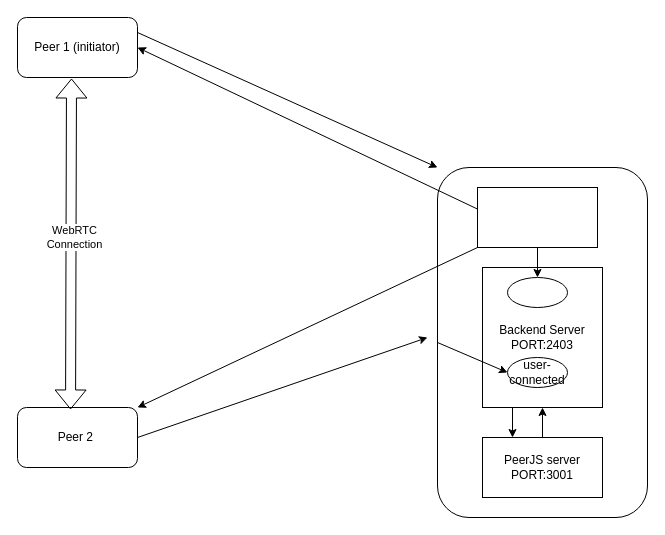
Some shapes in this 665 by 535 pixel diagram are drawn without their labels. The box of each missing label's shape, as (x1, y1, x2, y2) in pixels:
join-room: (506, 276, 568, 308)
views: (476, 186, 598, 248)
